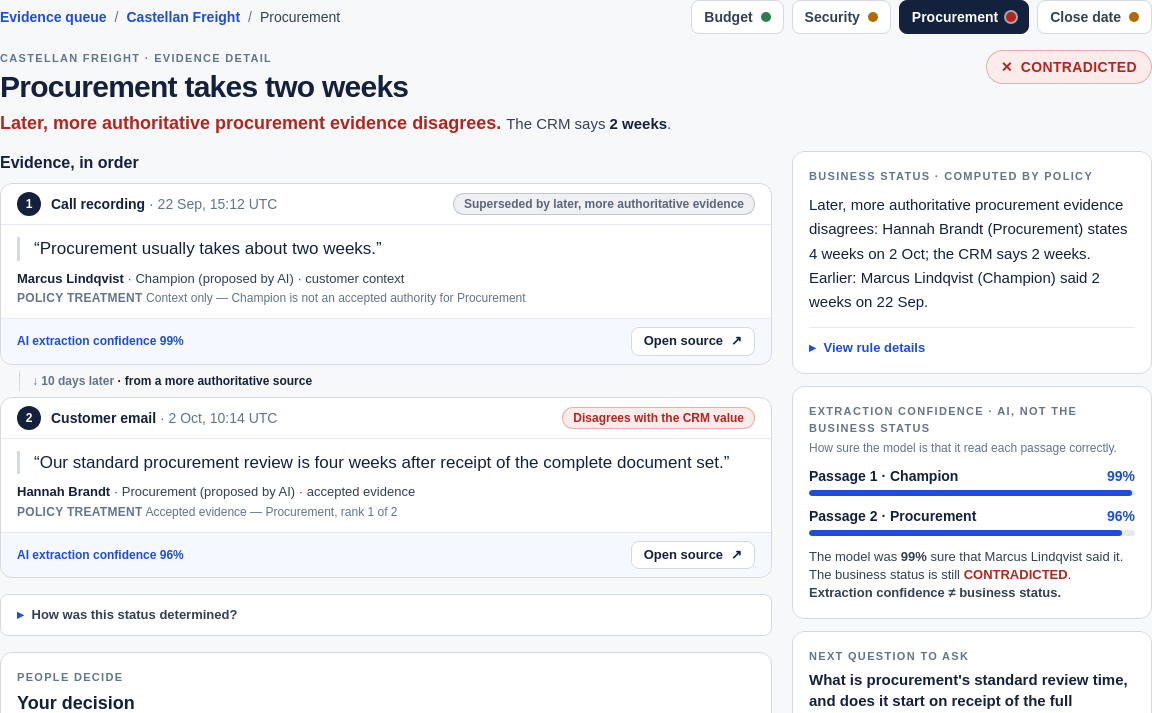
Final refinements › 'How was this status determined?' is collapsed, and explains AI → policy → human when opened
Click the heading "▸ How was this status determined?" at (127, 615), box 17,607 -> 237,622
(page scrolled)
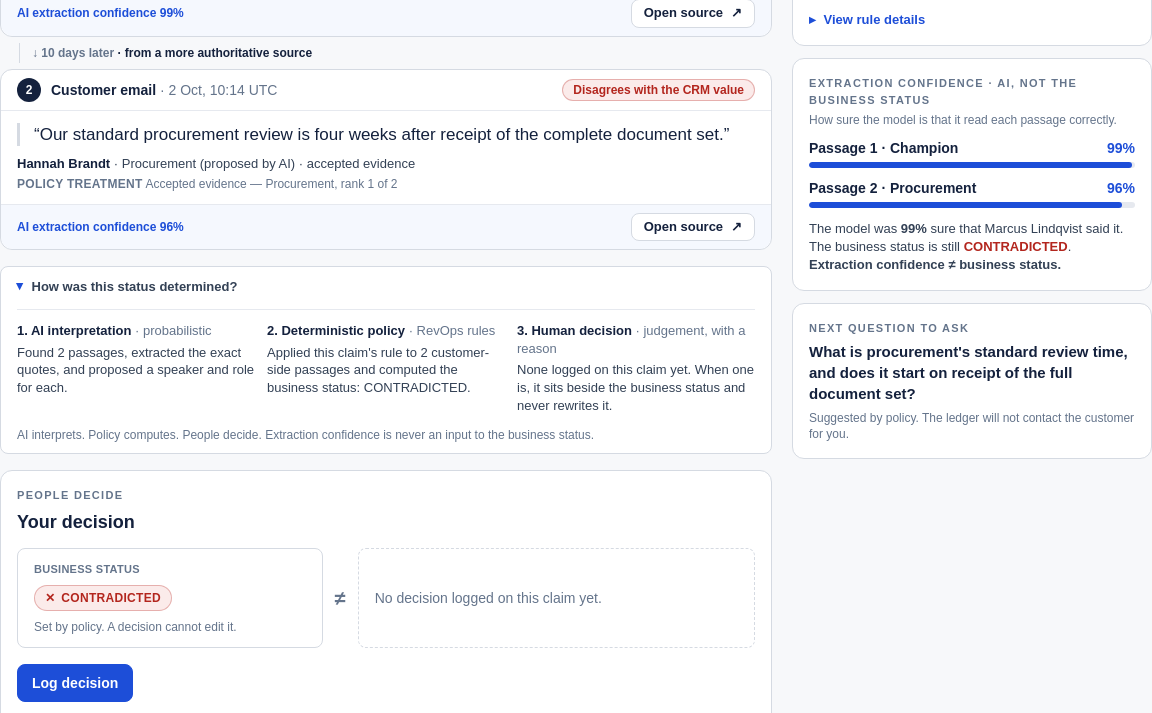
Check: the element with test id "how-determined" shows "1. AI interpretation", box 0,266 -> 772,454
Check: the element with test id "how-determined" shows "2. Deterministic policy", box 0,266 -> 772,454
Check: the element with test id "how-determined" shows "3. Human decision", box 0,266 -> 772,454
